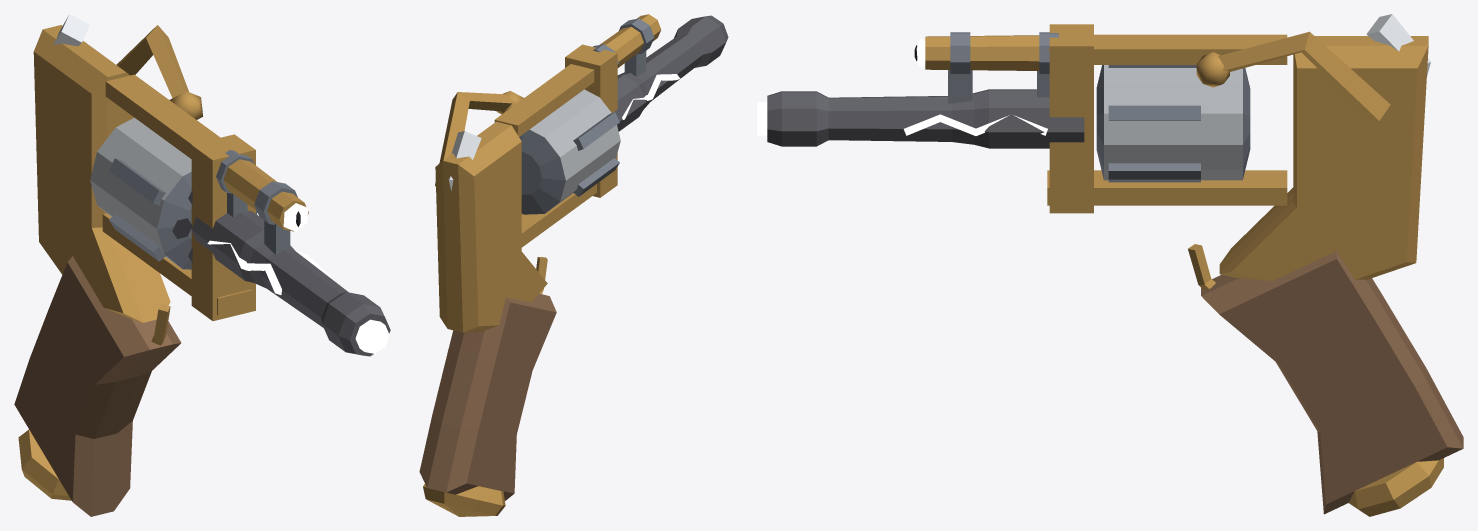
The model's file is gun-repeater.glb.
The picture shows the model from 3 angles, left to right: view 1: azimuth 30°, elevation 25°; view 2: azimuth 150°, elevation 25°; view 3: azimuth 270°, elevation 25°; orthographic projection. The views are drawn at different scales.
Parts seen in each view (by area): view 1: gun-repeater, pulse_vein, blink_lens; view 2: gun-repeater, pulse_vein; view 3: gun-repeater, pulse_vein.
Part boxes in pixels (x1,y1,x2,y2): gun-repeater: (14, 14, 390, 516); pulse_vein: (207, 240, 331, 294); blink_lens: (283, 203, 308, 231); gun-repeater: (419, 14, 728, 516); pulse_vein: (618, 69, 680, 119); gun-repeater: (757, 14, 1463, 516); pulse_vein: (903, 95, 1047, 135).
Size of the model in its own units: 0.1073 by 0.4499 by 0.574.
